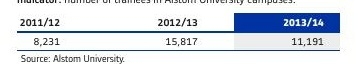table: (0, 0, 358, 64)
